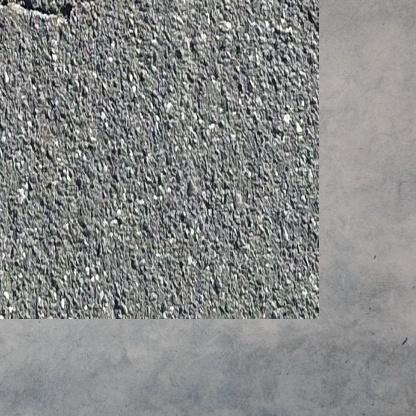Cracks: (0, 0, 125, 20), (254, 0, 295, 36)
